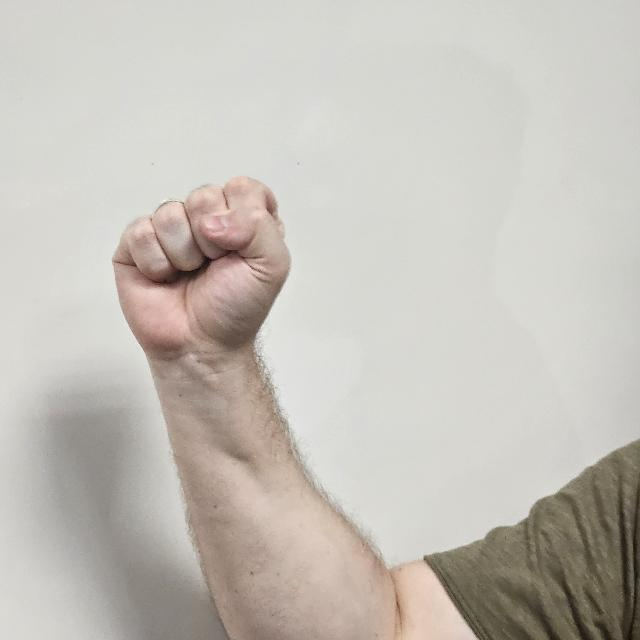Quadro: (110, 176, 290, 368)
